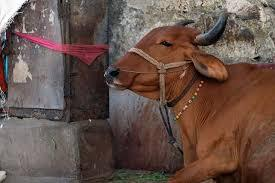cow: (104, 10, 275, 183)
